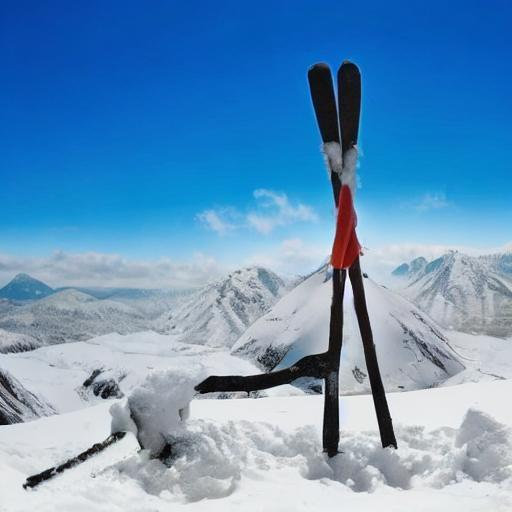Skis: (290, 56, 405, 460)
